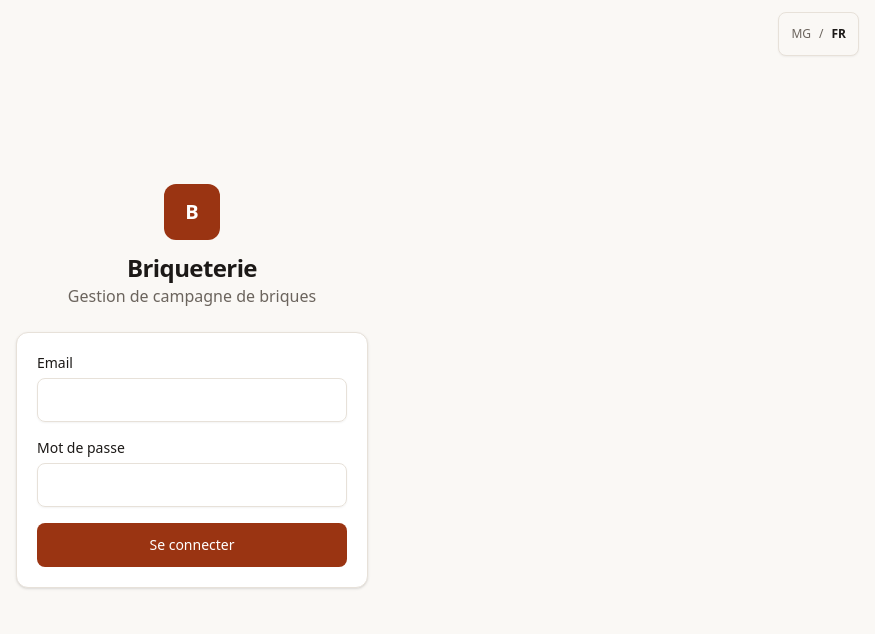
Test: LoginPage › tells a wrong email or password apart from an API failure
In the field labelled "Email": (192, 400) [37,378,347,422], type "a@b.c"
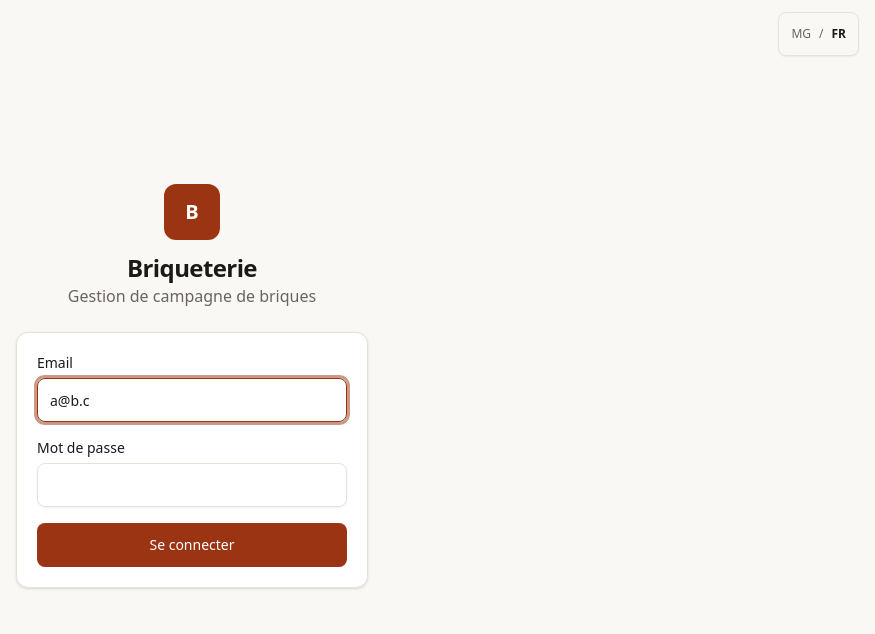
In the password field labelled "Mot de passe": (192, 485) [37,463,347,507], type "wrong"
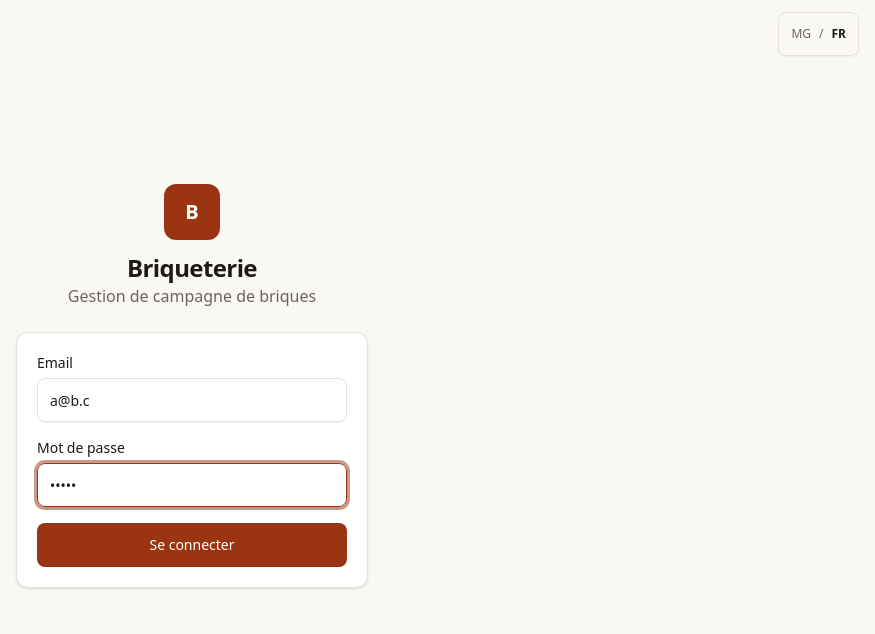
Click the button "Se connecter": (192, 545) [37,523,347,567]
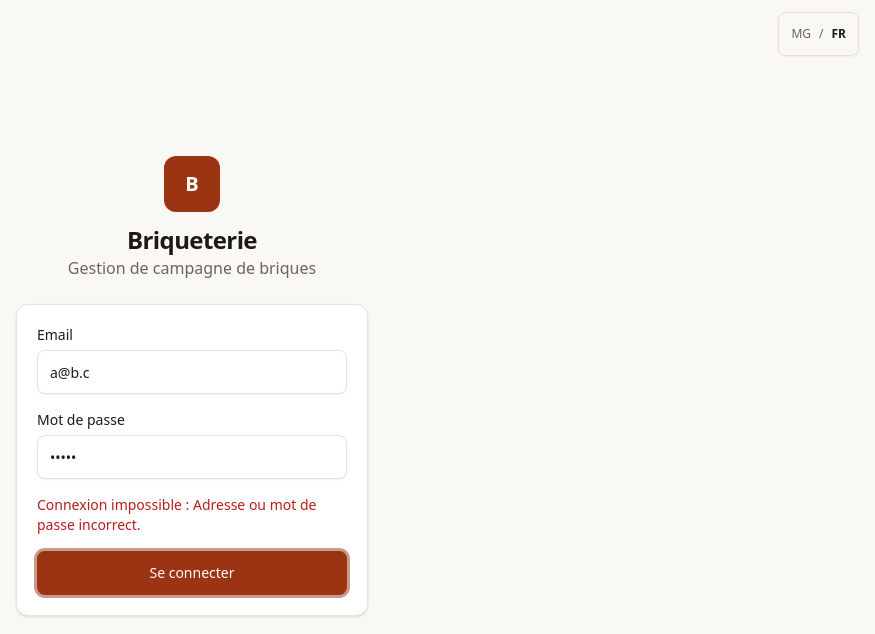
Check: the message reads "Connexion impossible : Adresse ou mot de passe incorrect.", box [37,495,347,535]
Click the button "Se connecter": (192, 573) [37,551,347,595]
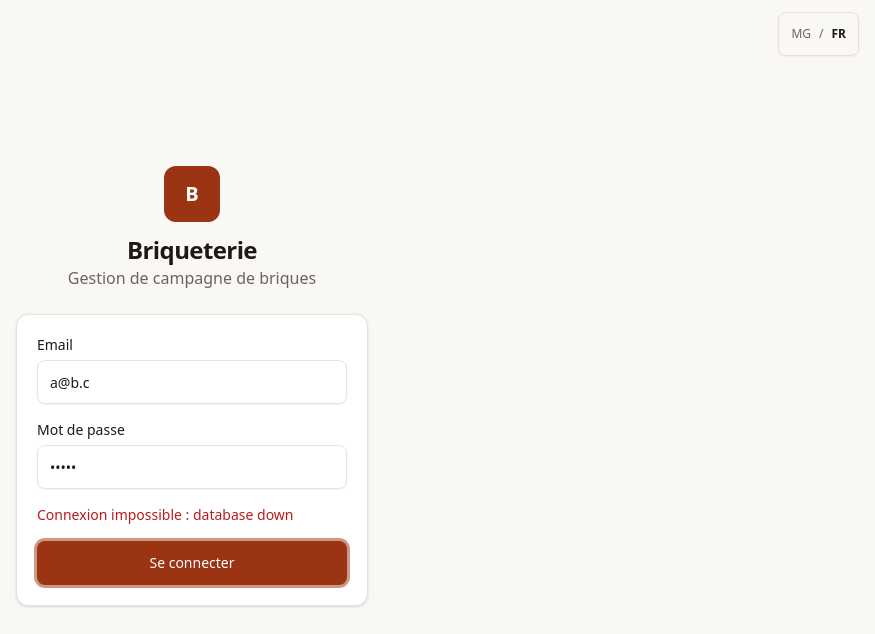
Check: the text "Connexion impossible : database down" is shown, box [37,505,294,524]
